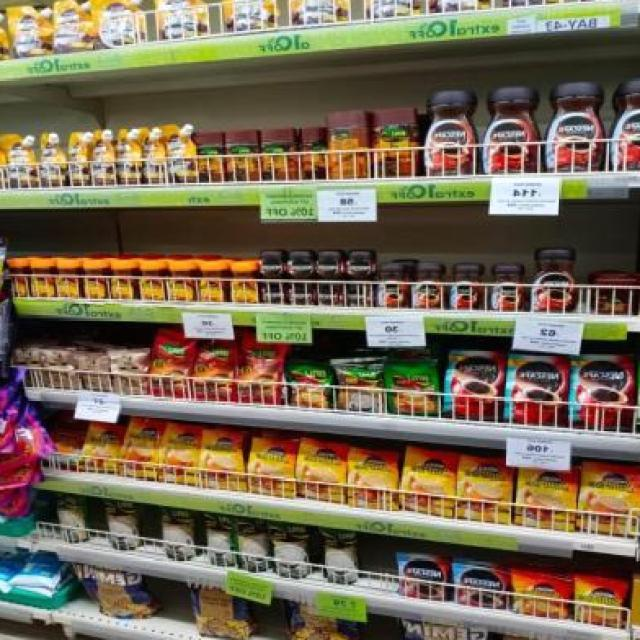Coffee: (482, 86, 543, 175), (546, 82, 603, 172), (424, 89, 480, 178), (570, 354, 637, 428), (516, 462, 576, 528), (508, 356, 566, 424), (582, 467, 638, 534), (446, 352, 502, 417), (529, 247, 580, 313), (456, 461, 512, 520), (401, 454, 456, 514), (346, 450, 398, 508), (612, 76, 640, 174), (298, 444, 346, 500), (250, 440, 295, 496), (514, 574, 568, 618), (202, 433, 244, 489), (452, 566, 508, 608), (161, 428, 201, 482), (576, 581, 626, 624), (121, 422, 160, 476), (399, 558, 447, 600), (84, 423, 122, 473), (492, 264, 524, 311), (452, 264, 484, 311), (412, 264, 443, 308), (378, 264, 406, 308), (232, 260, 256, 304), (168, 260, 193, 302), (198, 260, 222, 303), (110, 262, 134, 300), (141, 262, 164, 300), (82, 262, 106, 298), (31, 261, 52, 296), (345, 251, 372, 278), (56, 261, 76, 297), (319, 251, 342, 281), (7, 260, 26, 296), (289, 252, 313, 280), (346, 282, 374, 306), (262, 252, 284, 278), (318, 284, 340, 308), (290, 285, 312, 306), (262, 284, 284, 302)
